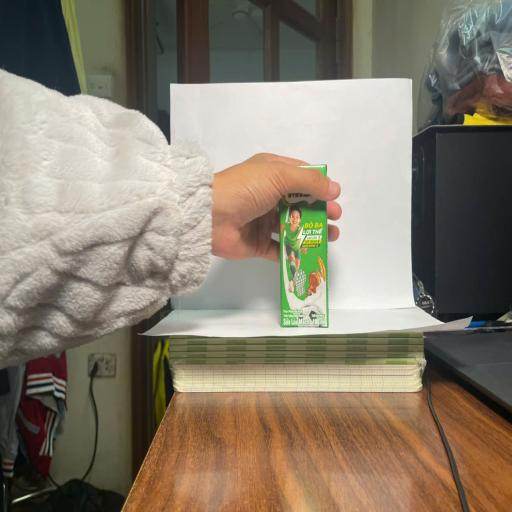milo: (278, 164, 328, 328)
